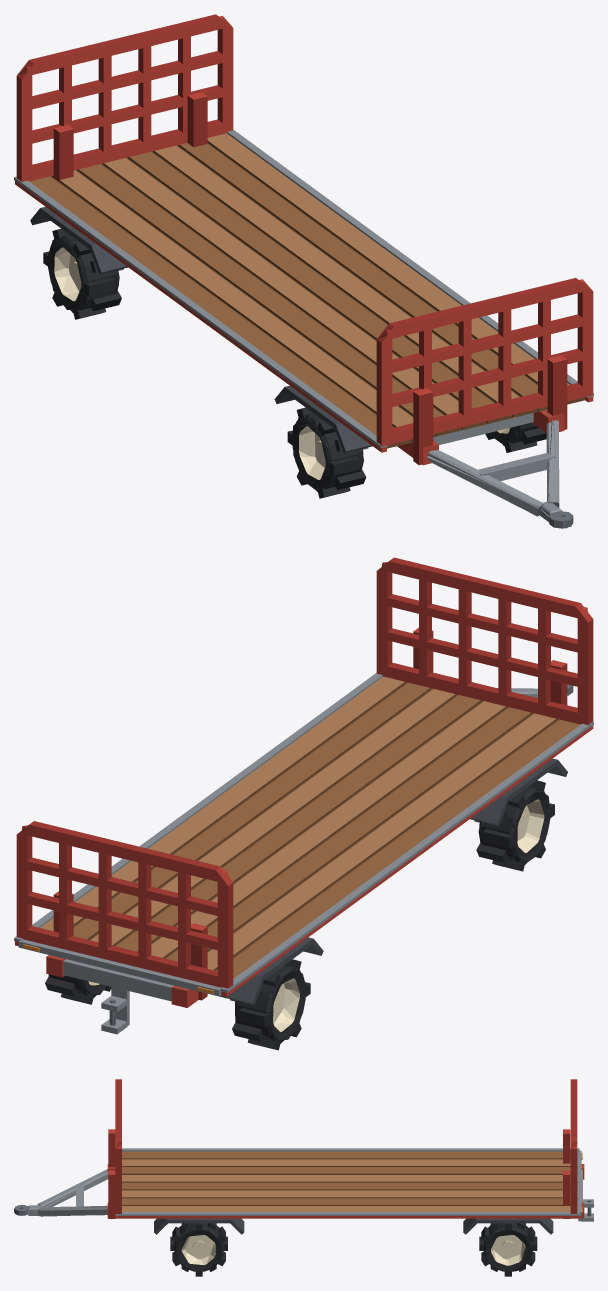
File: FMS_Mach_Trailer_Bale.fbx
The picture shows the model from 3 angles, top to bottom: view 1: azimuth 30°, elevation 25°; view 2: azimuth 150°, elevation 25°; view 3: azimuth 270°, elevation 25°; orthographic projection. The views are drawn at different scales.
Parts seen in each view (by area): view 1: Chassis, Chassis_Low1, Wheel_FR, Wheel_RR, Wheel_RR_Low1, Wheel_FR_Low1, Wheel_FL; view 2: Chassis, Chassis_Low1, Wheel_RR, Wheel_FR, Wheel_FR_Low1, Wheel_RR_Low1, Wheel_RL; view 3: Chassis, Wheel_FL, Wheel_RL, Chassis_Low1, Wheel_RL_Low1, Wheel_FL_Low1.
Boxes of the visible parts, x1,y1,x2,y2 form: Chassis: (14, 14, 593, 528); Chassis_Low1: (16, 15, 593, 528); Wheel_FR: (287, 407, 366, 498); Wheel_RR: (43, 228, 121, 319); Wheel_RR_Low1: (43, 237, 121, 310); Wheel_FR_Low1: (287, 408, 363, 496); Wheel_FL: (485, 422, 546, 452); Chassis: (14, 557, 593, 1034); Chassis_Low1: (17, 562, 593, 1024); Wheel_RR: (232, 959, 310, 1050); Wheel_FR: (476, 780, 554, 871); Wheel_FR_Low1: (477, 781, 549, 870); Wheel_RR_Low1: (232, 967, 310, 1041); Wheel_RL: (45, 974, 111, 1004); Chassis: (15, 1079, 593, 1234); Wheel_FL: (170, 1223, 227, 1276); Wheel_RL: (479, 1223, 537, 1276); Chassis_Low1: (14, 1140, 584, 1231); Wheel_RL_Low1: (479, 1224, 537, 1276); Wheel_FL_Low1: (175, 1223, 227, 1276).
Size of the model in its own units: 2.52 by 2.3 by 9.
